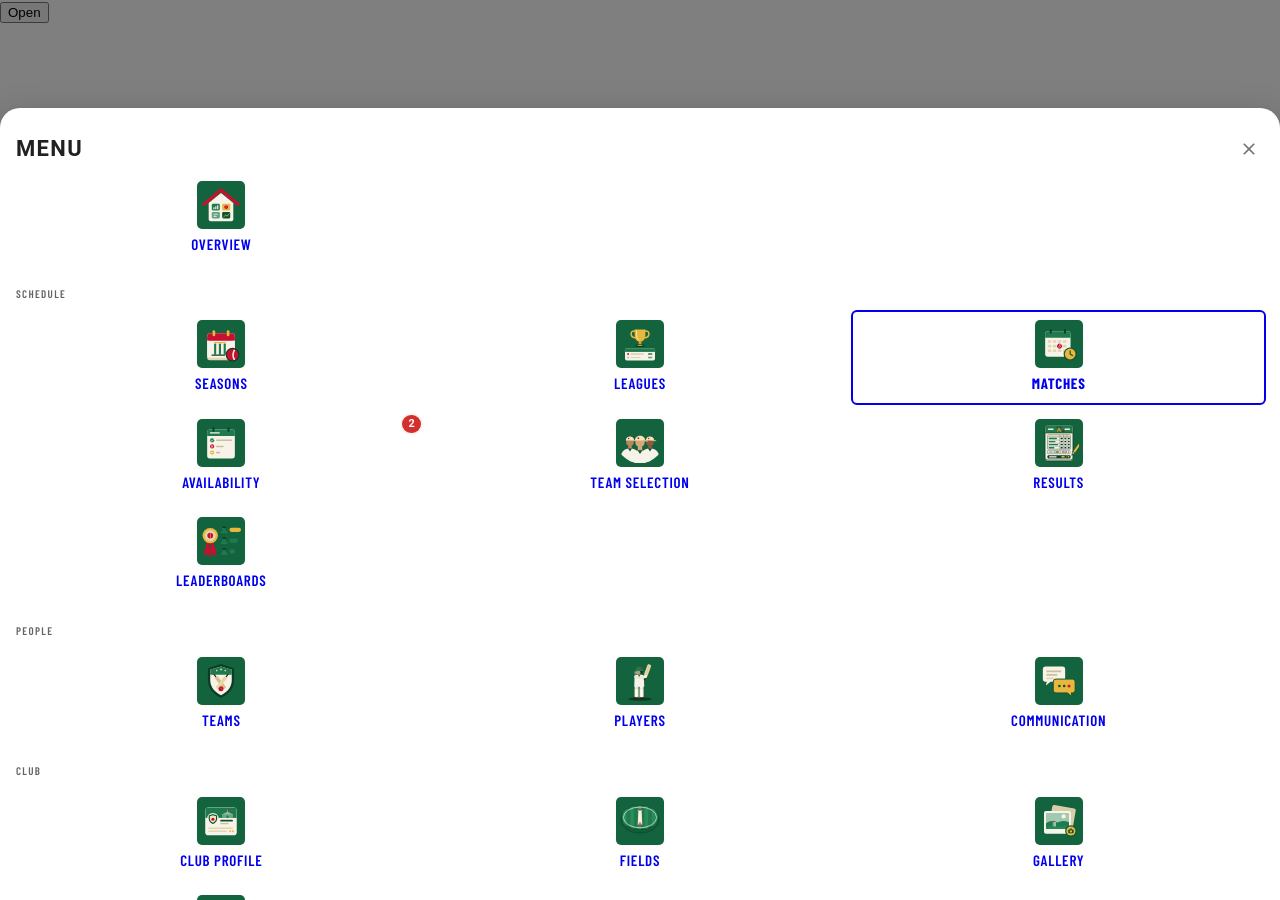
it: MenuSheet › closes with the close button
Click the button named "Close menu". click: click(1249, 149)
box: [1234,134,1264,164]
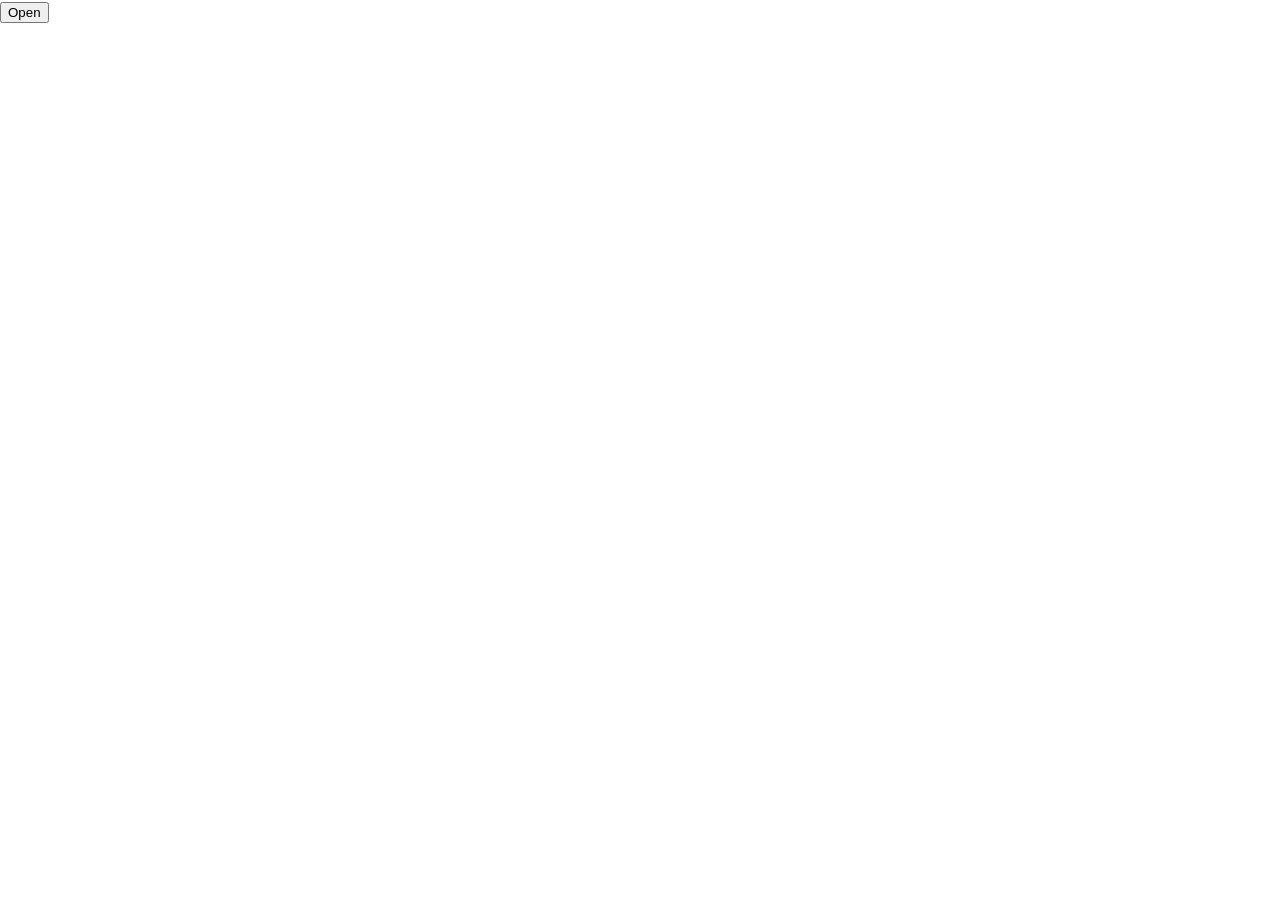
Expected: the link "Leagues" is gone
